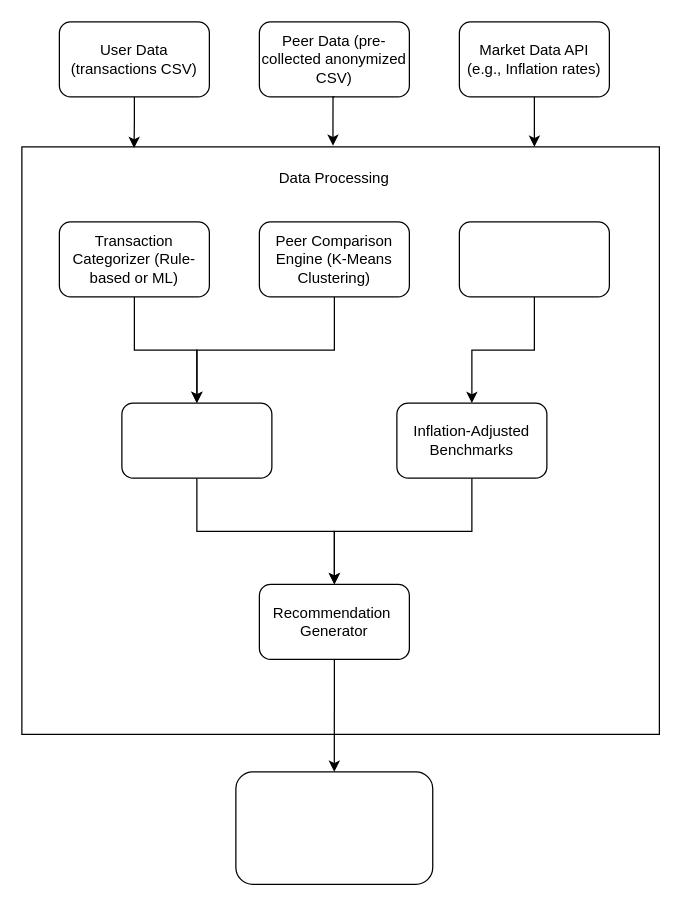
This 681x906 diagram has some shape labels left out. Here are the shapes that lost their labels. From the top down, the centre of each, then its label:
At point 533,259: "Market Trend Analyzer (API fetcher + adjustment calc)".
At point 196,440: "Spending Pattern Analysis".
At point 334,827: "Structured Output (JSON/dictionary with insights)".
